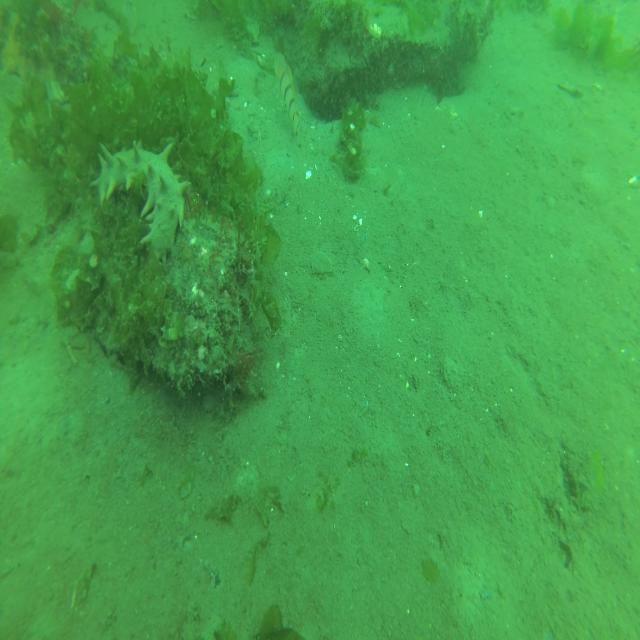holothurian: (89, 140, 191, 263)
scallop: (556, 78, 583, 96)
